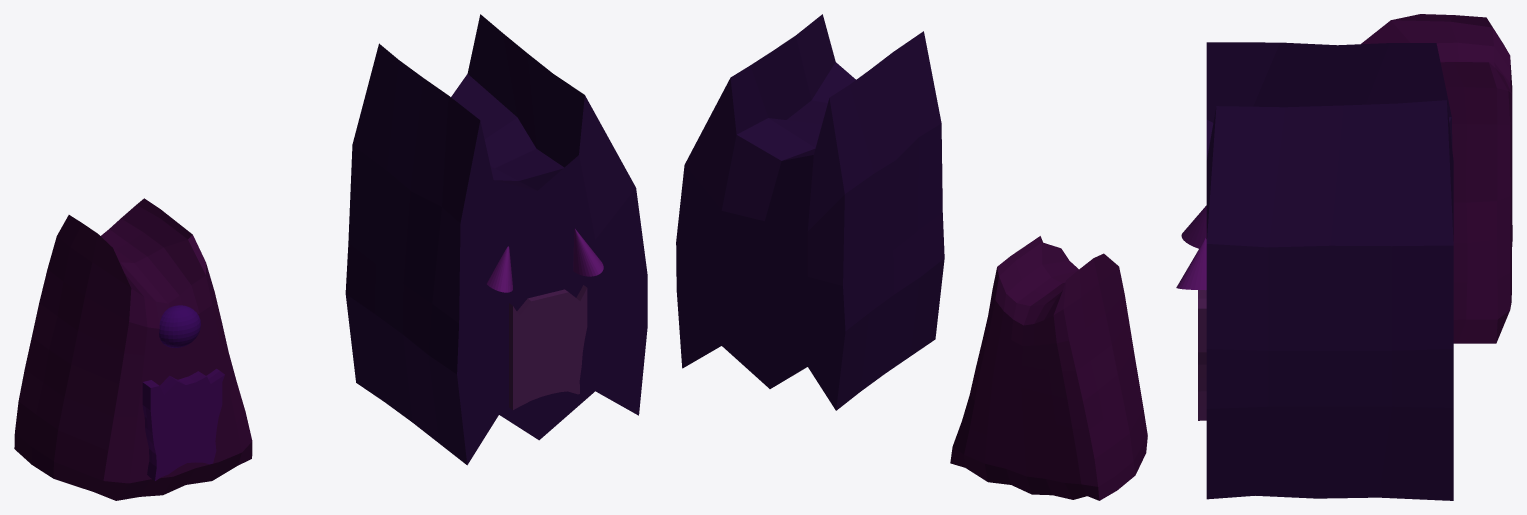
The model's file is MONSTRUOS.glb.
3 renders of one model, left to right at view 1: azimuth 30°, elevation 25°; view 2: azimuth 150°, elevation 25°; view 3: azimuth 270°, elevation 25°, orthographic. The views are drawn at different scales.
Visible parts, largest first — view 1: Roundcube.001, Roundcube.002, Cube.001, Cube.002, Sphere, Cone.002, Cone.003; view 2: Roundcube.001, Roundcube.002; view 3: Roundcube.001, Roundcube.002, Cube.001, Cone.002, Cone.003.
Boxes of the visible parts, bbox=[...] form: Roundcube.001: bbox=[345, 14, 647, 465]; Roundcube.002: bbox=[14, 198, 252, 500]; Cube.001: bbox=[509, 285, 587, 409]; Cube.002: bbox=[142, 368, 224, 480]; Sphere: bbox=[159, 305, 200, 347]; Cone.002: bbox=[573, 228, 603, 276]; Cone.003: bbox=[487, 246, 512, 292]; Roundcube.001: bbox=[676, 14, 944, 410]; Roundcube.002: bbox=[950, 236, 1147, 500]; Roundcube.001: bbox=[1206, 42, 1453, 500]; Roundcube.002: bbox=[1361, 14, 1512, 343]; Cube.001: bbox=[1198, 290, 1206, 420]; Cone.002: bbox=[1176, 238, 1206, 290]; Cone.003: bbox=[1181, 205, 1206, 248].
Bounding box in the file's own units: 5.19 × 3.58 × 2.72.
